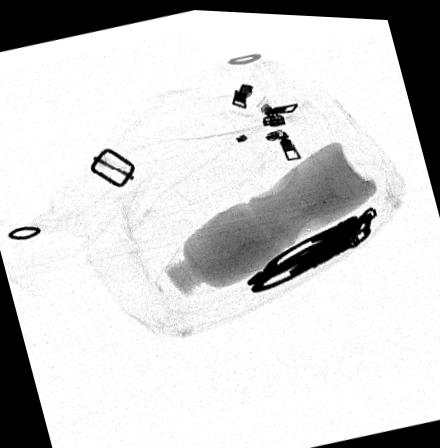HandCuffs: (245, 202, 376, 289)
